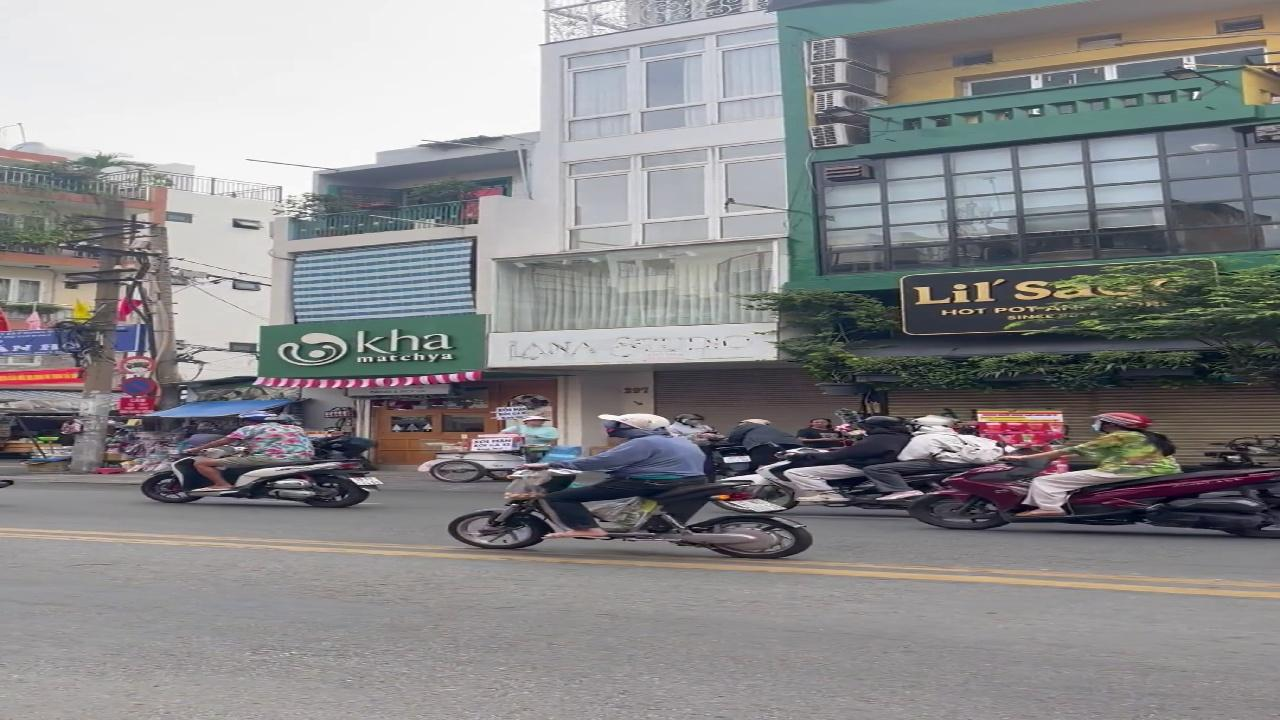Helmet: (524, 413, 707, 537), (1007, 413, 1180, 517), (864, 415, 1002, 500), (783, 416, 911, 502), (185, 412, 313, 493)
Motor: (909, 461, 1279, 537), (601, 481, 812, 558), (141, 456, 381, 507), (713, 448, 822, 512), (1204, 436, 1279, 468), (313, 434, 374, 469), (711, 445, 751, 477), (0, 478, 14, 488)
